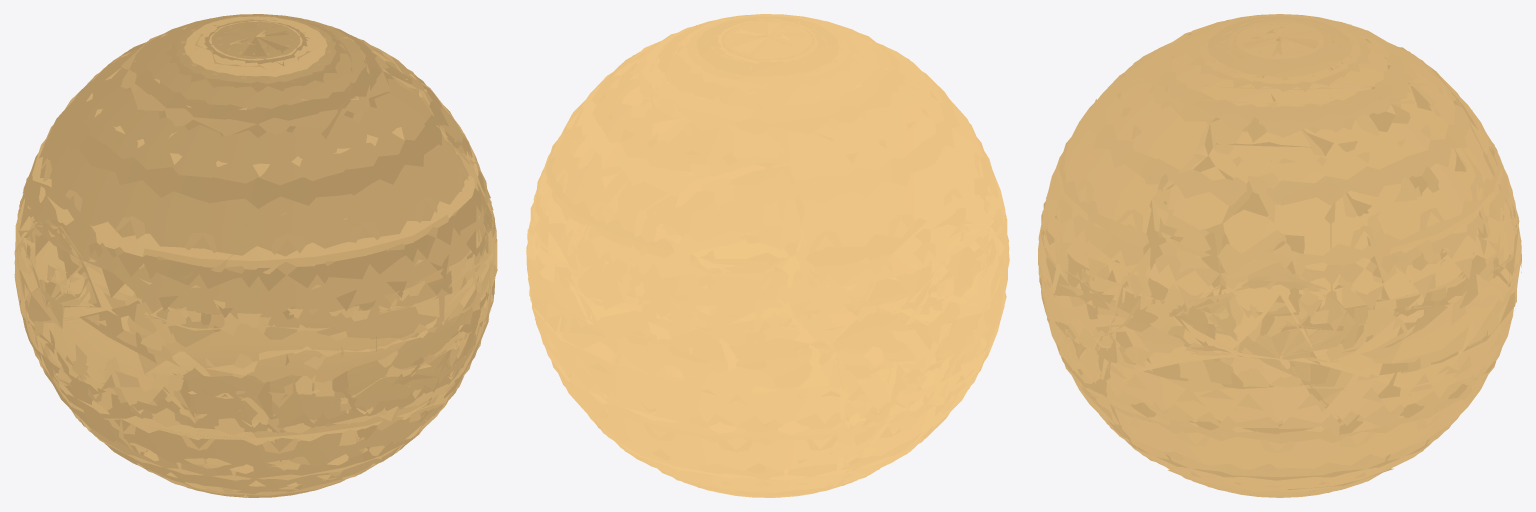
The picture shows the model from 3 angles, left to right: view 1: azimuth 30°, elevation 25°; view 2: azimuth 150°, elevation 25°; view 3: azimuth 270°, elevation 25°; orthographic projection.
Visible parts, largest first — view 1: 22B-22B-equipment; view 2: 22B-22B-equipment; view 3: 22B-22B-equipment.
Part boxes in pixels (left/top/right/bottom): 22B-22B-equipment: left=14, top=14, right=497, bottom=497; 22B-22B-equipment: left=526, top=14, right=1009, bottom=497; 22B-22B-equipment: left=1038, top=14, right=1521, bottom=497.
Bounding box in the file's own units: 2 × 2 × 2.
